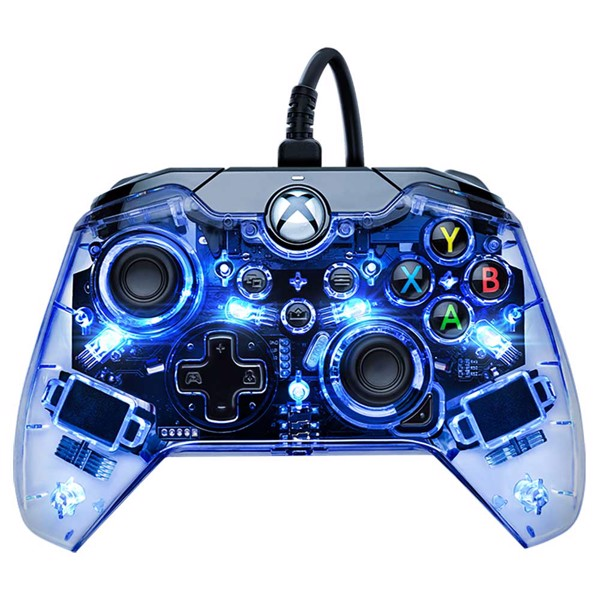controller: (13, 165, 587, 553)
